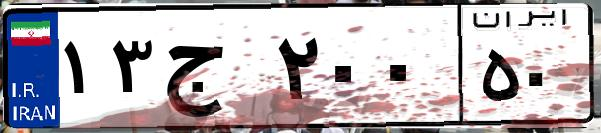0: (385, 28, 445, 110), (330, 28, 385, 110), (525, 38, 570, 115)
1: (57, 26, 110, 100)
2: (270, 28, 330, 110)
3: (110, 28, 158, 98)
5: (475, 38, 525, 113)
ج: (158, 20, 270, 120)
